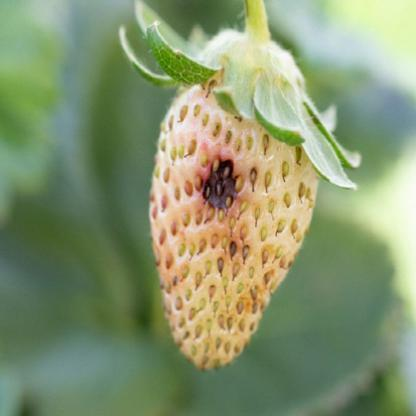Strawberry_Anthracnose_Fruit_Rot: (187, 142, 259, 236)
